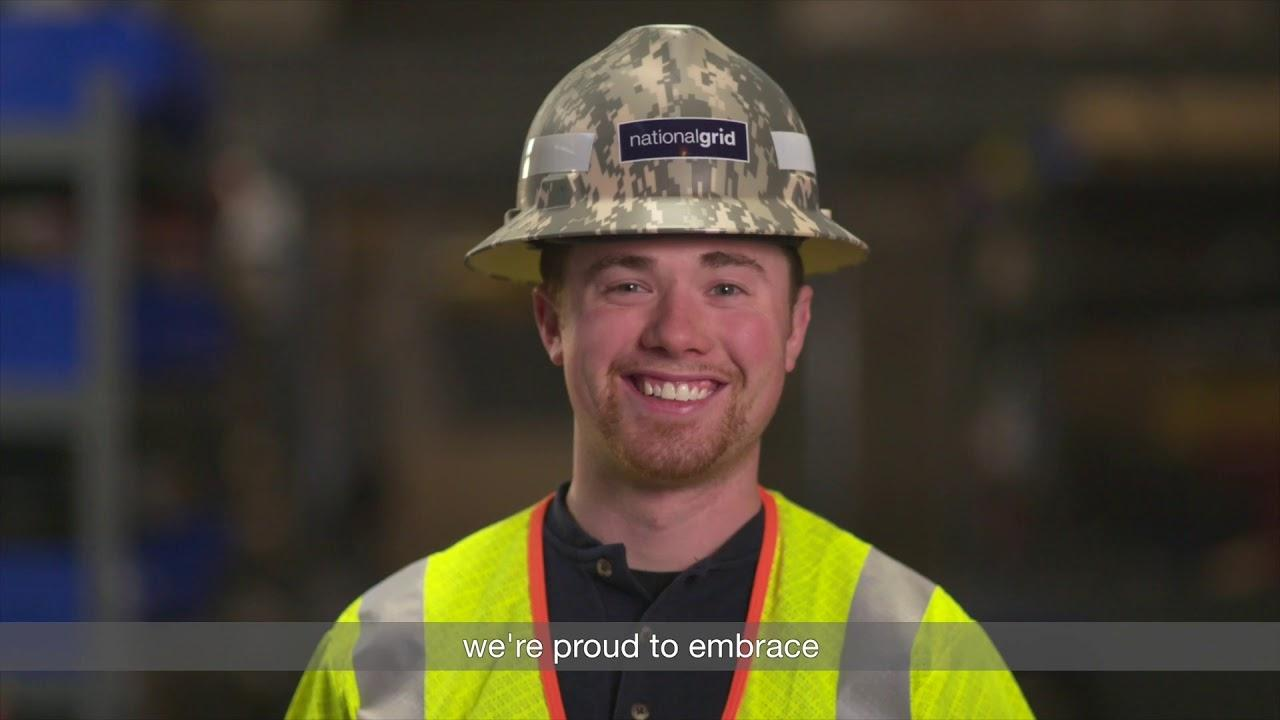helmet: (469, 24, 888, 267)
wear: (274, 506, 1041, 720)
